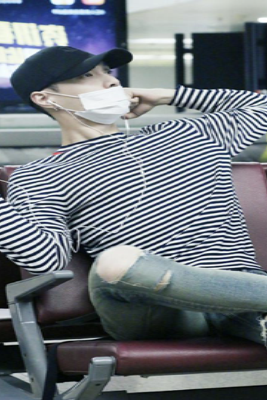mask_weared_incorrect: (54, 67, 129, 121)
